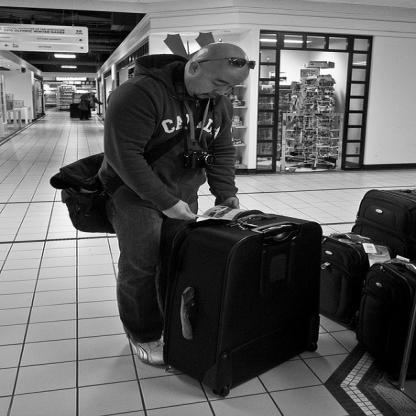handbag: (50, 95, 222, 234)
suitcase: (167, 210, 326, 397), (321, 232, 396, 330), (356, 258, 415, 381), (349, 188, 416, 256)
